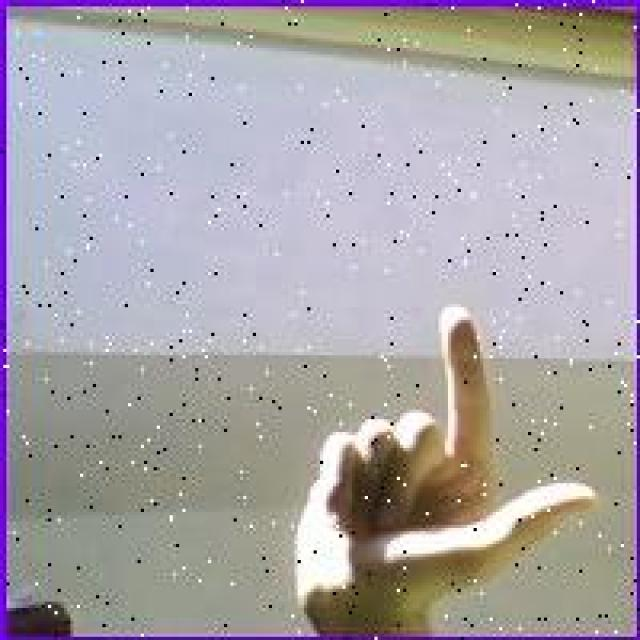L: (293, 294, 600, 630)
